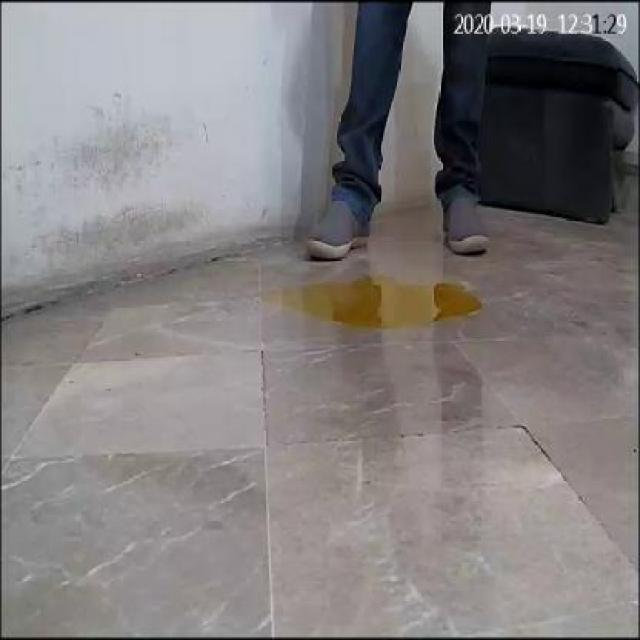spill: (264, 274, 484, 336)
